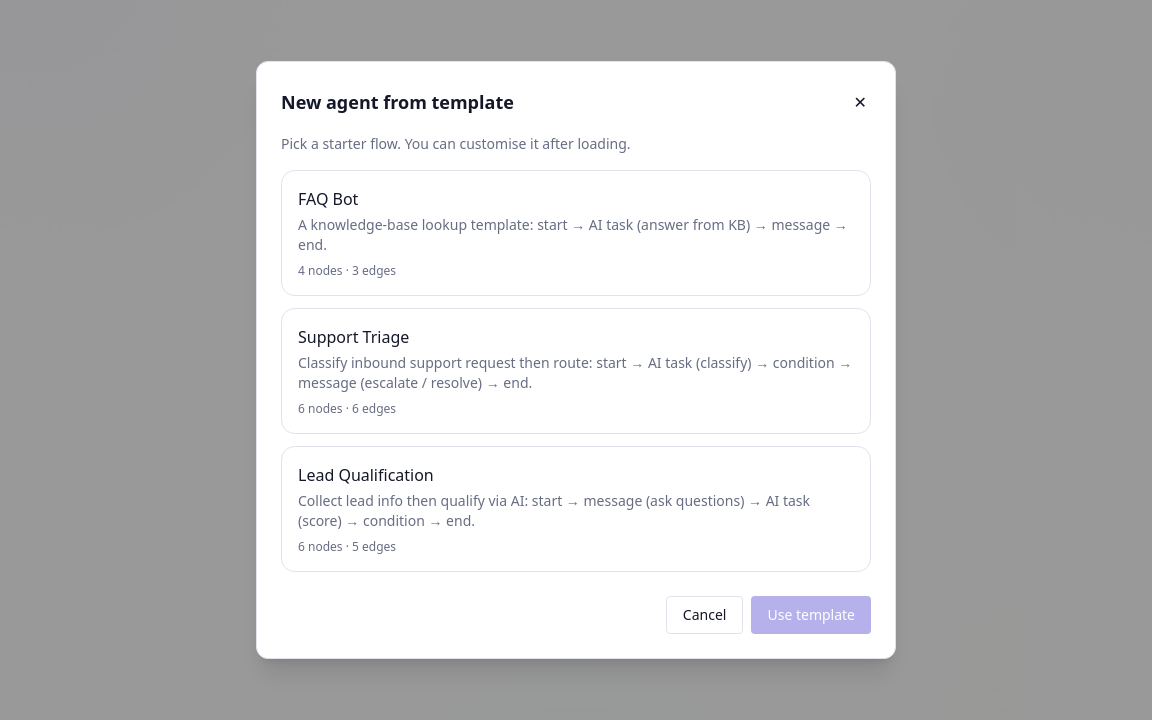
Test: FlowTemplatePicker › apply button enables after selecting a card
Click the option with test id "flow-template-card-faq" at (576, 233), box [281,170,871,296]
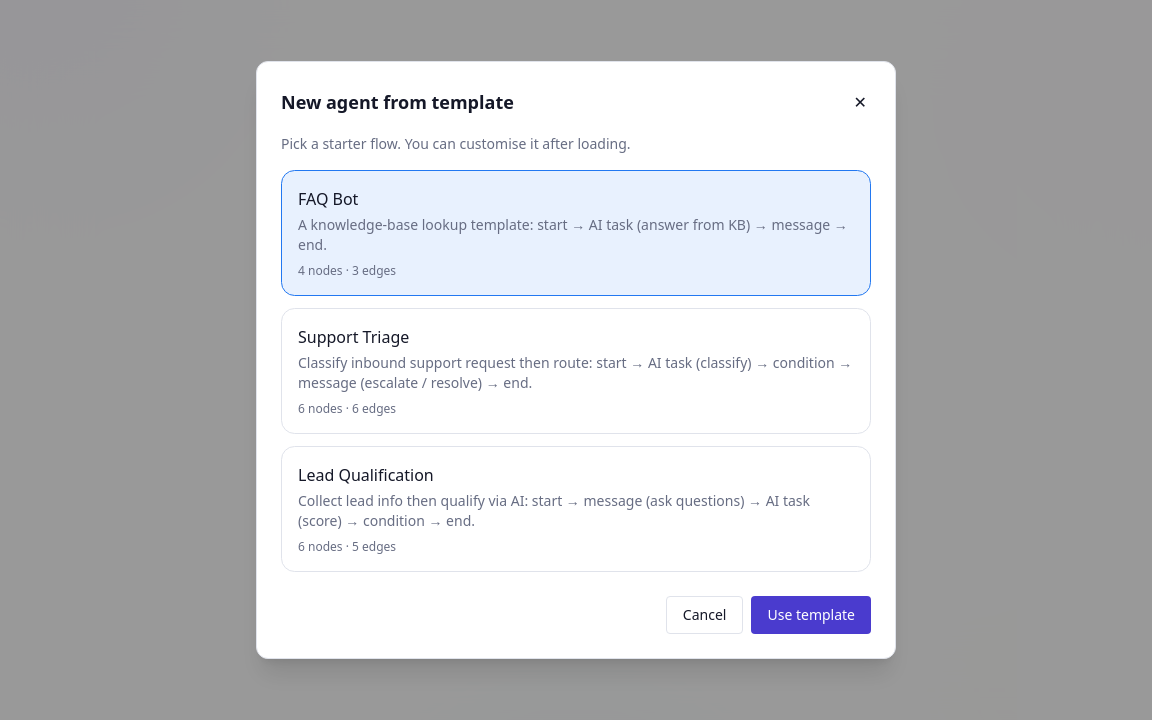
Check: the button with test id "flow-template-apply" is enabled, box [752,596,871,634]
